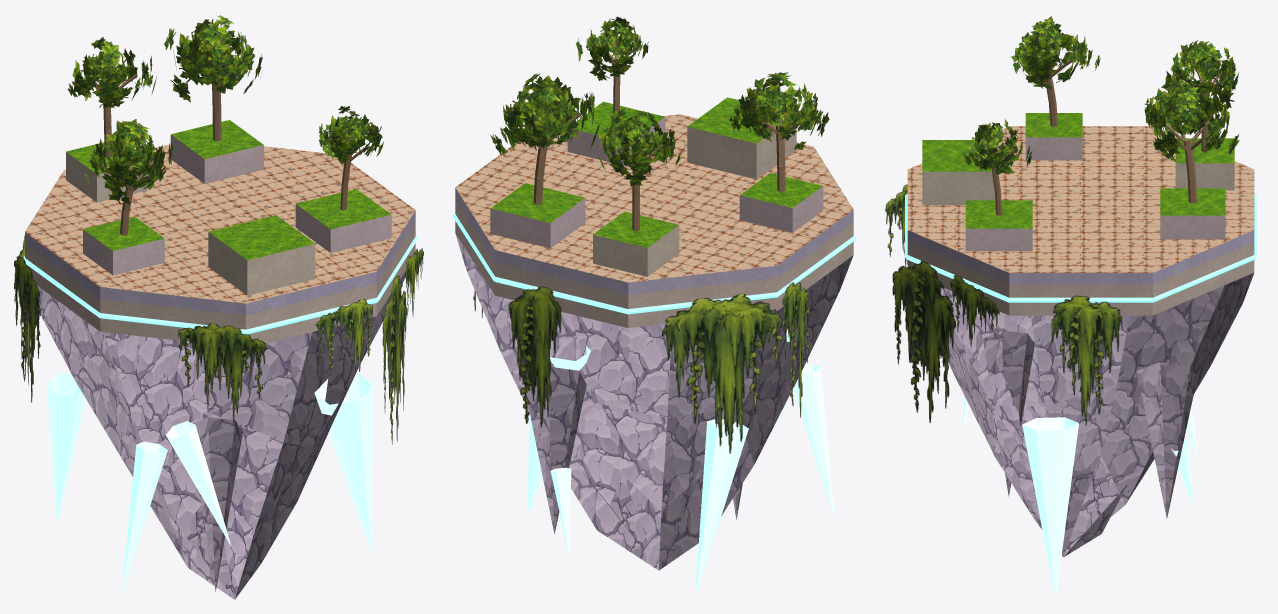
The model's file is SKY_ISLAND_07.glb.
3 views of the same model, side by side, from view 1: azimuth 30°, elevation 25°; view 2: azimuth 150°, elevation 25°; view 3: azimuth 270°, elevation 25° (orthographic). The views are drawn at different scales.
Visible parts, largest first — view 1: S_SouthSmall05_Skin.001, S_SouthSmall05_Trees.001, S_SouthSmall05_Crystals.001, S_SouthSmall05_Moss.001; view 2: S_SouthSmall05_Skin.001, S_SouthSmall05_Trees.001, S_SouthSmall05_Moss.001, S_SouthSmall05_Crystals.001; view 3: S_SouthSmall05_Skin.001, S_SouthSmall05_Trees.001, S_SouthSmall05_Moss.001, S_SouthSmall05_Crystals.001.
Part boxes in pixels (x1=…): S_SouthSmall05_Skin.001: x1=23, y1=120, x2=418, y2=599; S_SouthSmall05_Trees.001: x1=67, y1=15, x2=383, y2=235; S_SouthSmall05_Crystals.001: x1=47, y1=372, x2=373, y2=593; S_SouthSmall05_Moss.001: x1=14, y1=235, x2=423, y2=444; S_SouthSmall05_Skin.001: x1=452, y1=97, x2=856, y2=570; S_SouthSmall05_Trees.001: x1=490, y1=16, x2=829, y2=231; S_SouthSmall05_Moss.001: x1=473, y1=282, x2=809, y2=453; S_SouthSmall05_Crystals.001: x1=527, y1=329, x2=834, y2=598; S_SouthSmall05_Skin.001: x1=905, y1=113, x2=1256, y2=557; S_SouthSmall05_Trees.001: x1=962, y1=16, x2=1239, y2=215; S_SouthSmall05_Moss.001: x1=885, y1=184, x2=1122, y2=425; S_SouthSmall05_Crystals.001: x1=963, y1=311, x2=1198, y2=599.
Bounding box in the file's own units: 11.68 × 17.65 × 12.1.
Materials: 9 (7 with a texture image).
